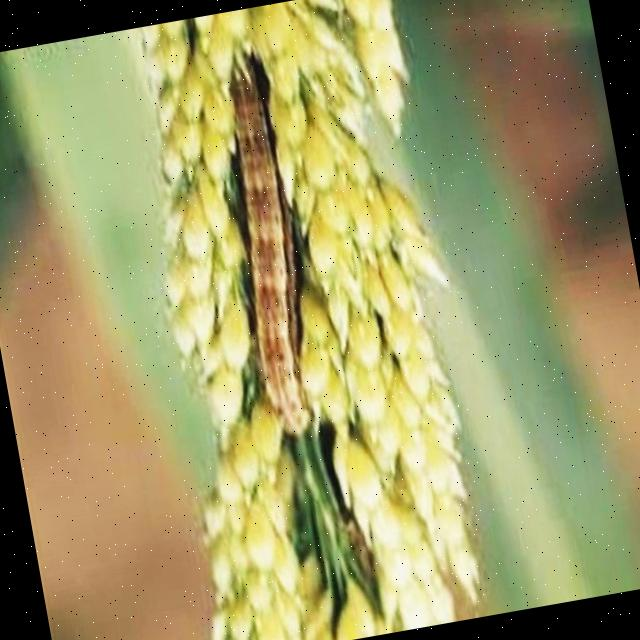worm: (207, 44, 335, 443)
